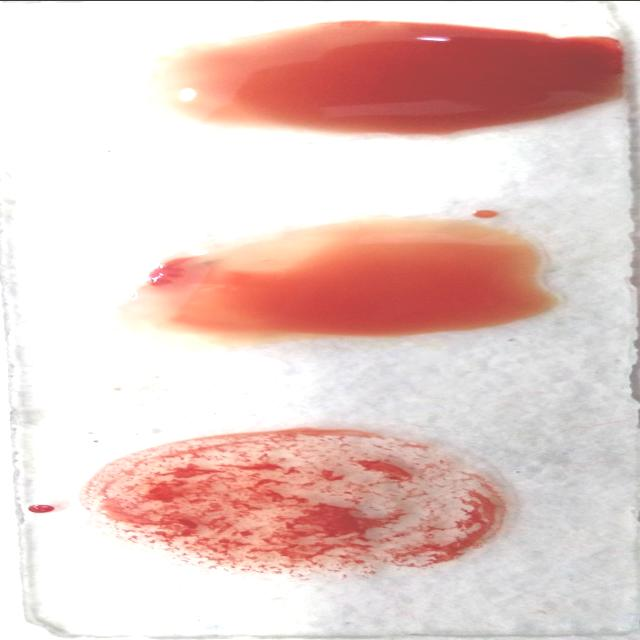D: (74, 428, 512, 582)
